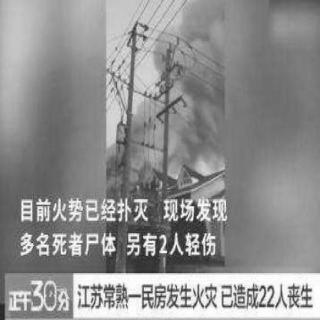Fire: (135, 131, 177, 181)
